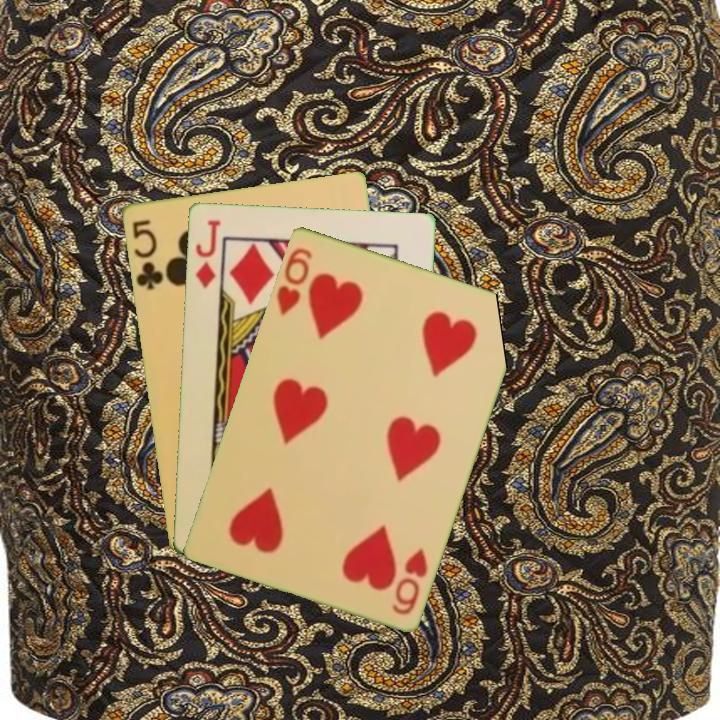5c: (128, 215, 166, 292)
6h: (272, 243, 315, 318), (388, 543, 431, 618)
Jd: (191, 216, 223, 291)
